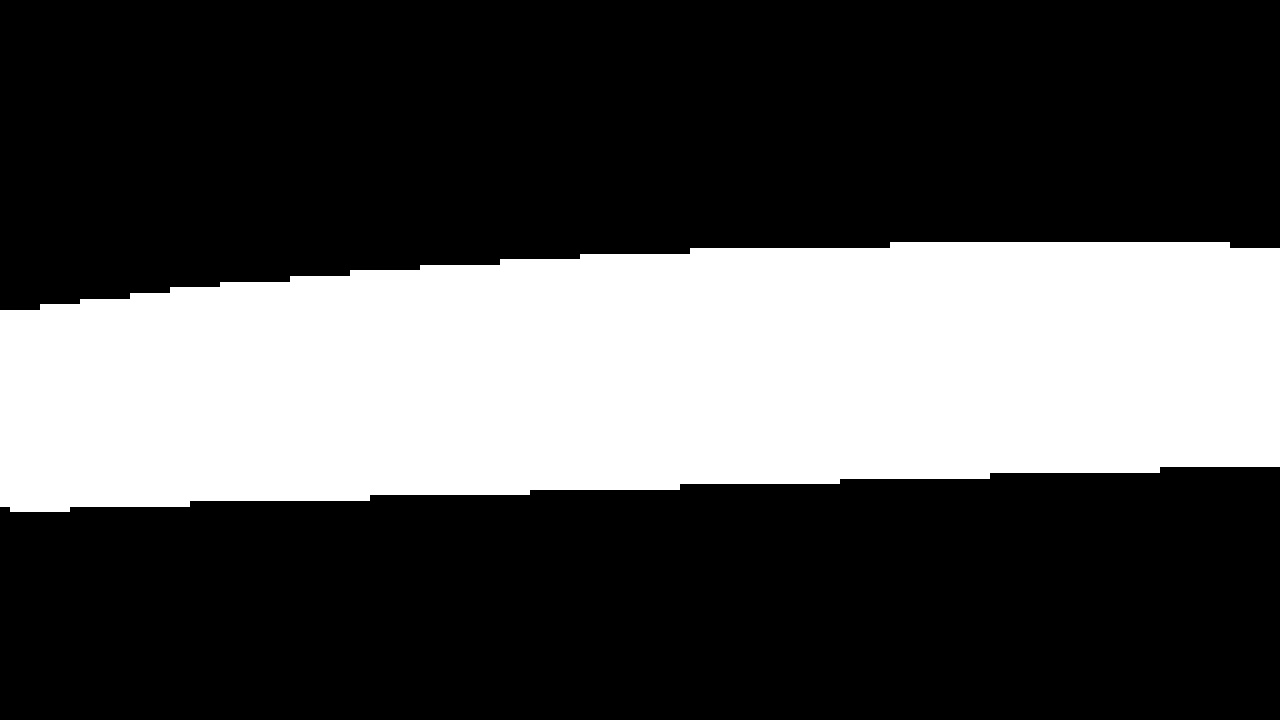Turbine: (5, 214, 1272, 546)
